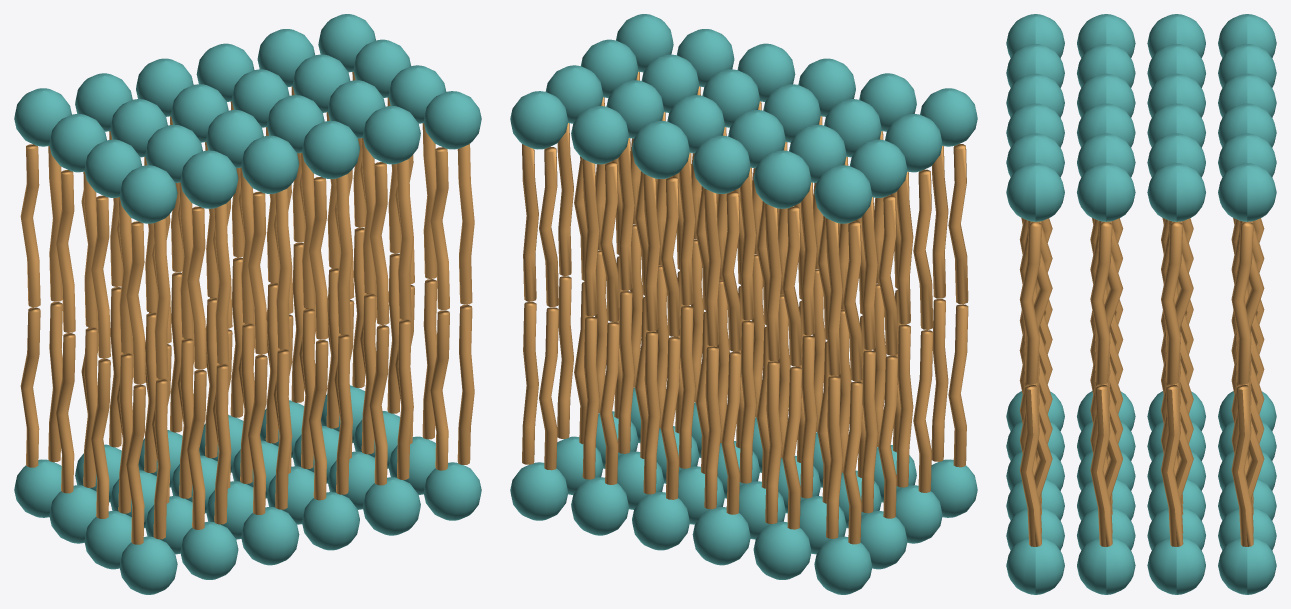
Rendered from bio3d2-membrane.glb.
The picture shows the model from 3 angles, left to right: view 1: azimuth 30°, elevation 25°; view 2: azimuth 150°, elevation 25°; view 3: azimuth 270°, elevation 25°; orthographic projection.
Parts seen in each view (by area): view 1: Paired inward hydrophobic tails, Hydrophilic head groups; view 2: Paired inward hydrophobic tails, Hydrophilic head groups; view 3: Hydrophilic head groups, Paired inward hydrophobic tails.
Part boxes in pixels (<box>): Paired inward hydrophobic tails: <box>20,71,474,544</box>; Hydrophilic head groups: <box>14,14,481,594</box>; Paired inward hydrophobic tails: <box>522,71,968,544</box>; Hydrophilic head groups: <box>510,14,977,594</box>; Hydrophilic head groups: <box>1006,14,1276,594</box>; Paired inward hydrophobic tails: <box>1019,218,1264,546</box>.
Size of the model in its own units: 3.5 by 4 by 2.3.
